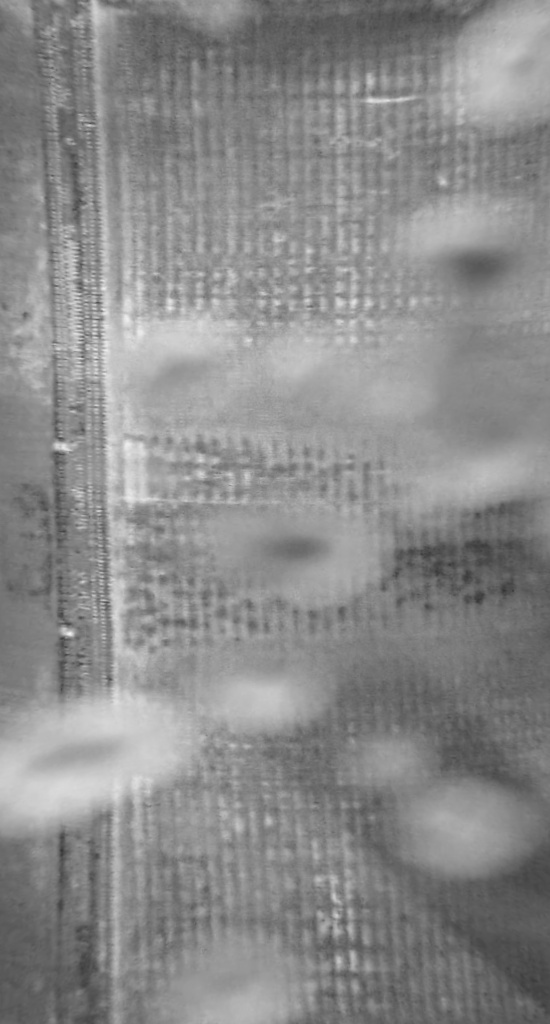splice: (33, 1, 130, 1022)
